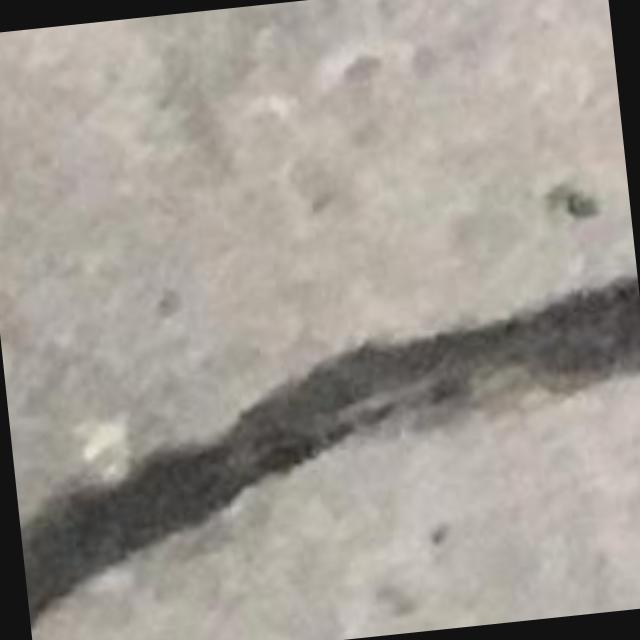crack: (20, 275, 639, 626)
